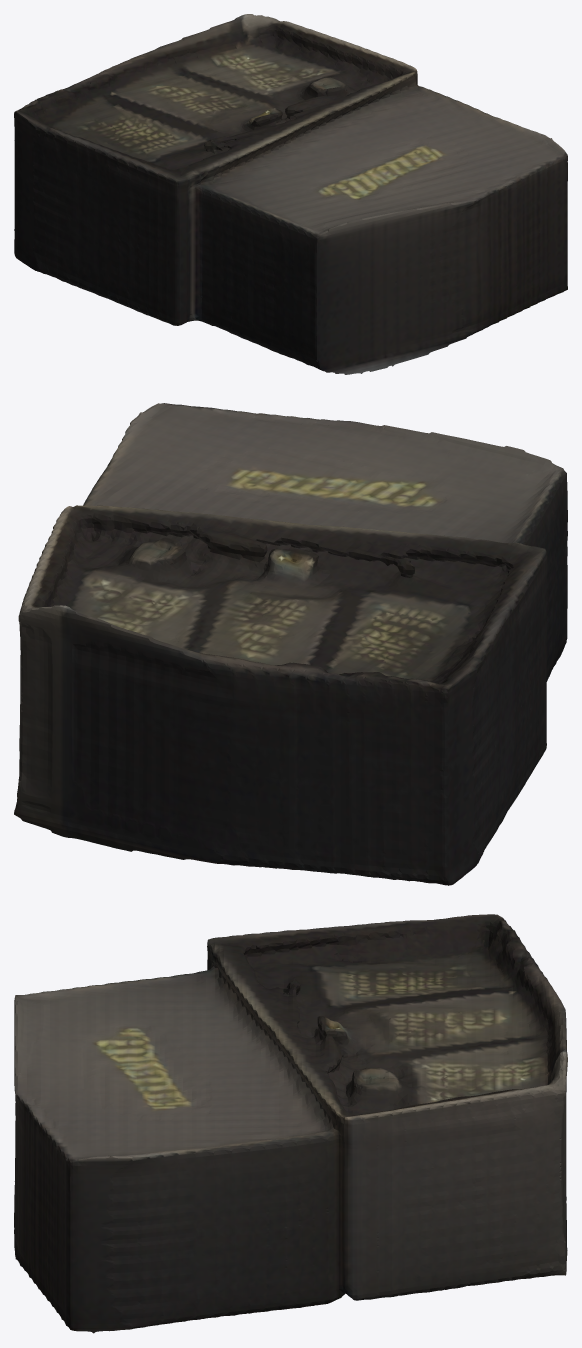
File: product11.glb
3 views of the same model, one above another, from view 1: azimuth 30°, elevation 25°; view 2: azimuth 150°, elevation 25°; view 3: azimuth 270°, elevation 25° (orthographic). The views are drawn at different scales.
Parts seen in each view (by area): view 1: world; view 2: world; view 3: world.
Part boxes in pixels (x1,y1,x2,y2): world: (14, 14, 567, 374); world: (14, 403, 567, 885); world: (14, 914, 567, 1333).
Size of the model in its own units: 1.98 by 0.8586 by 1.98.
